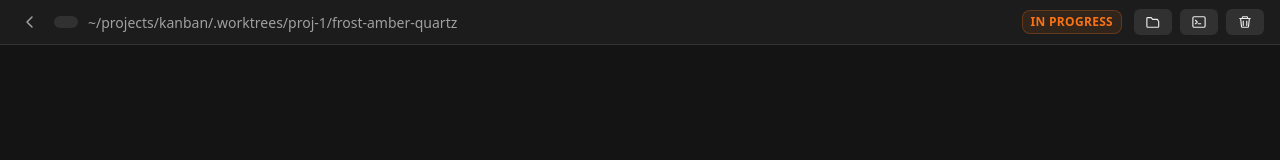
Test case: TaskHeader path tooltip (mobile) › shows the full path when the label is tapped
Click the text "~/projects/kanban/.worktrees/proj-1/frost-amber-quartz".
click(273, 22)  # box [88,12,457,32]
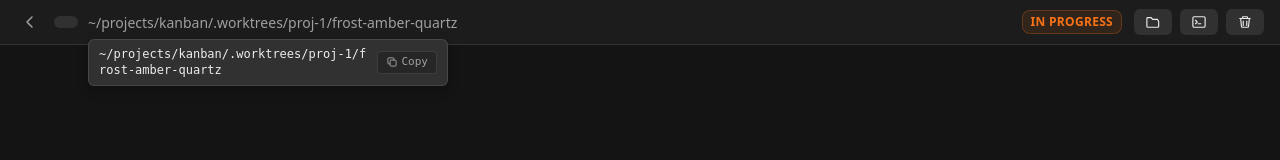
Expected: the tooltip "~/projects/kanban/.worktrees/proj-1/frost-amber-quartz Copy" is shown, [88,38,448,86]
